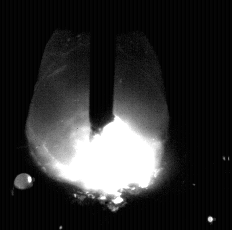arame: (90, 0, 115, 133)
poca: (25, 0, 169, 230)
